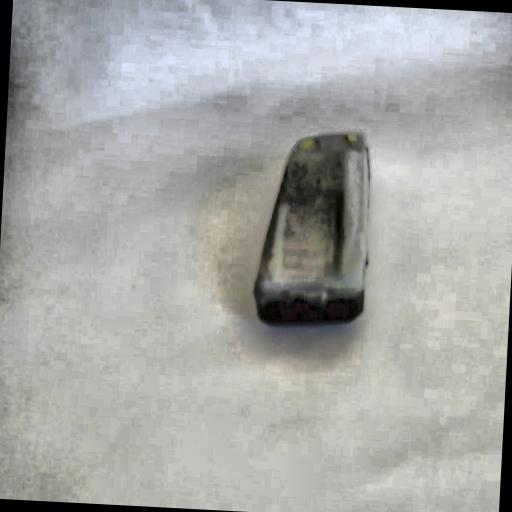normal_car: (248, 124, 380, 335)
